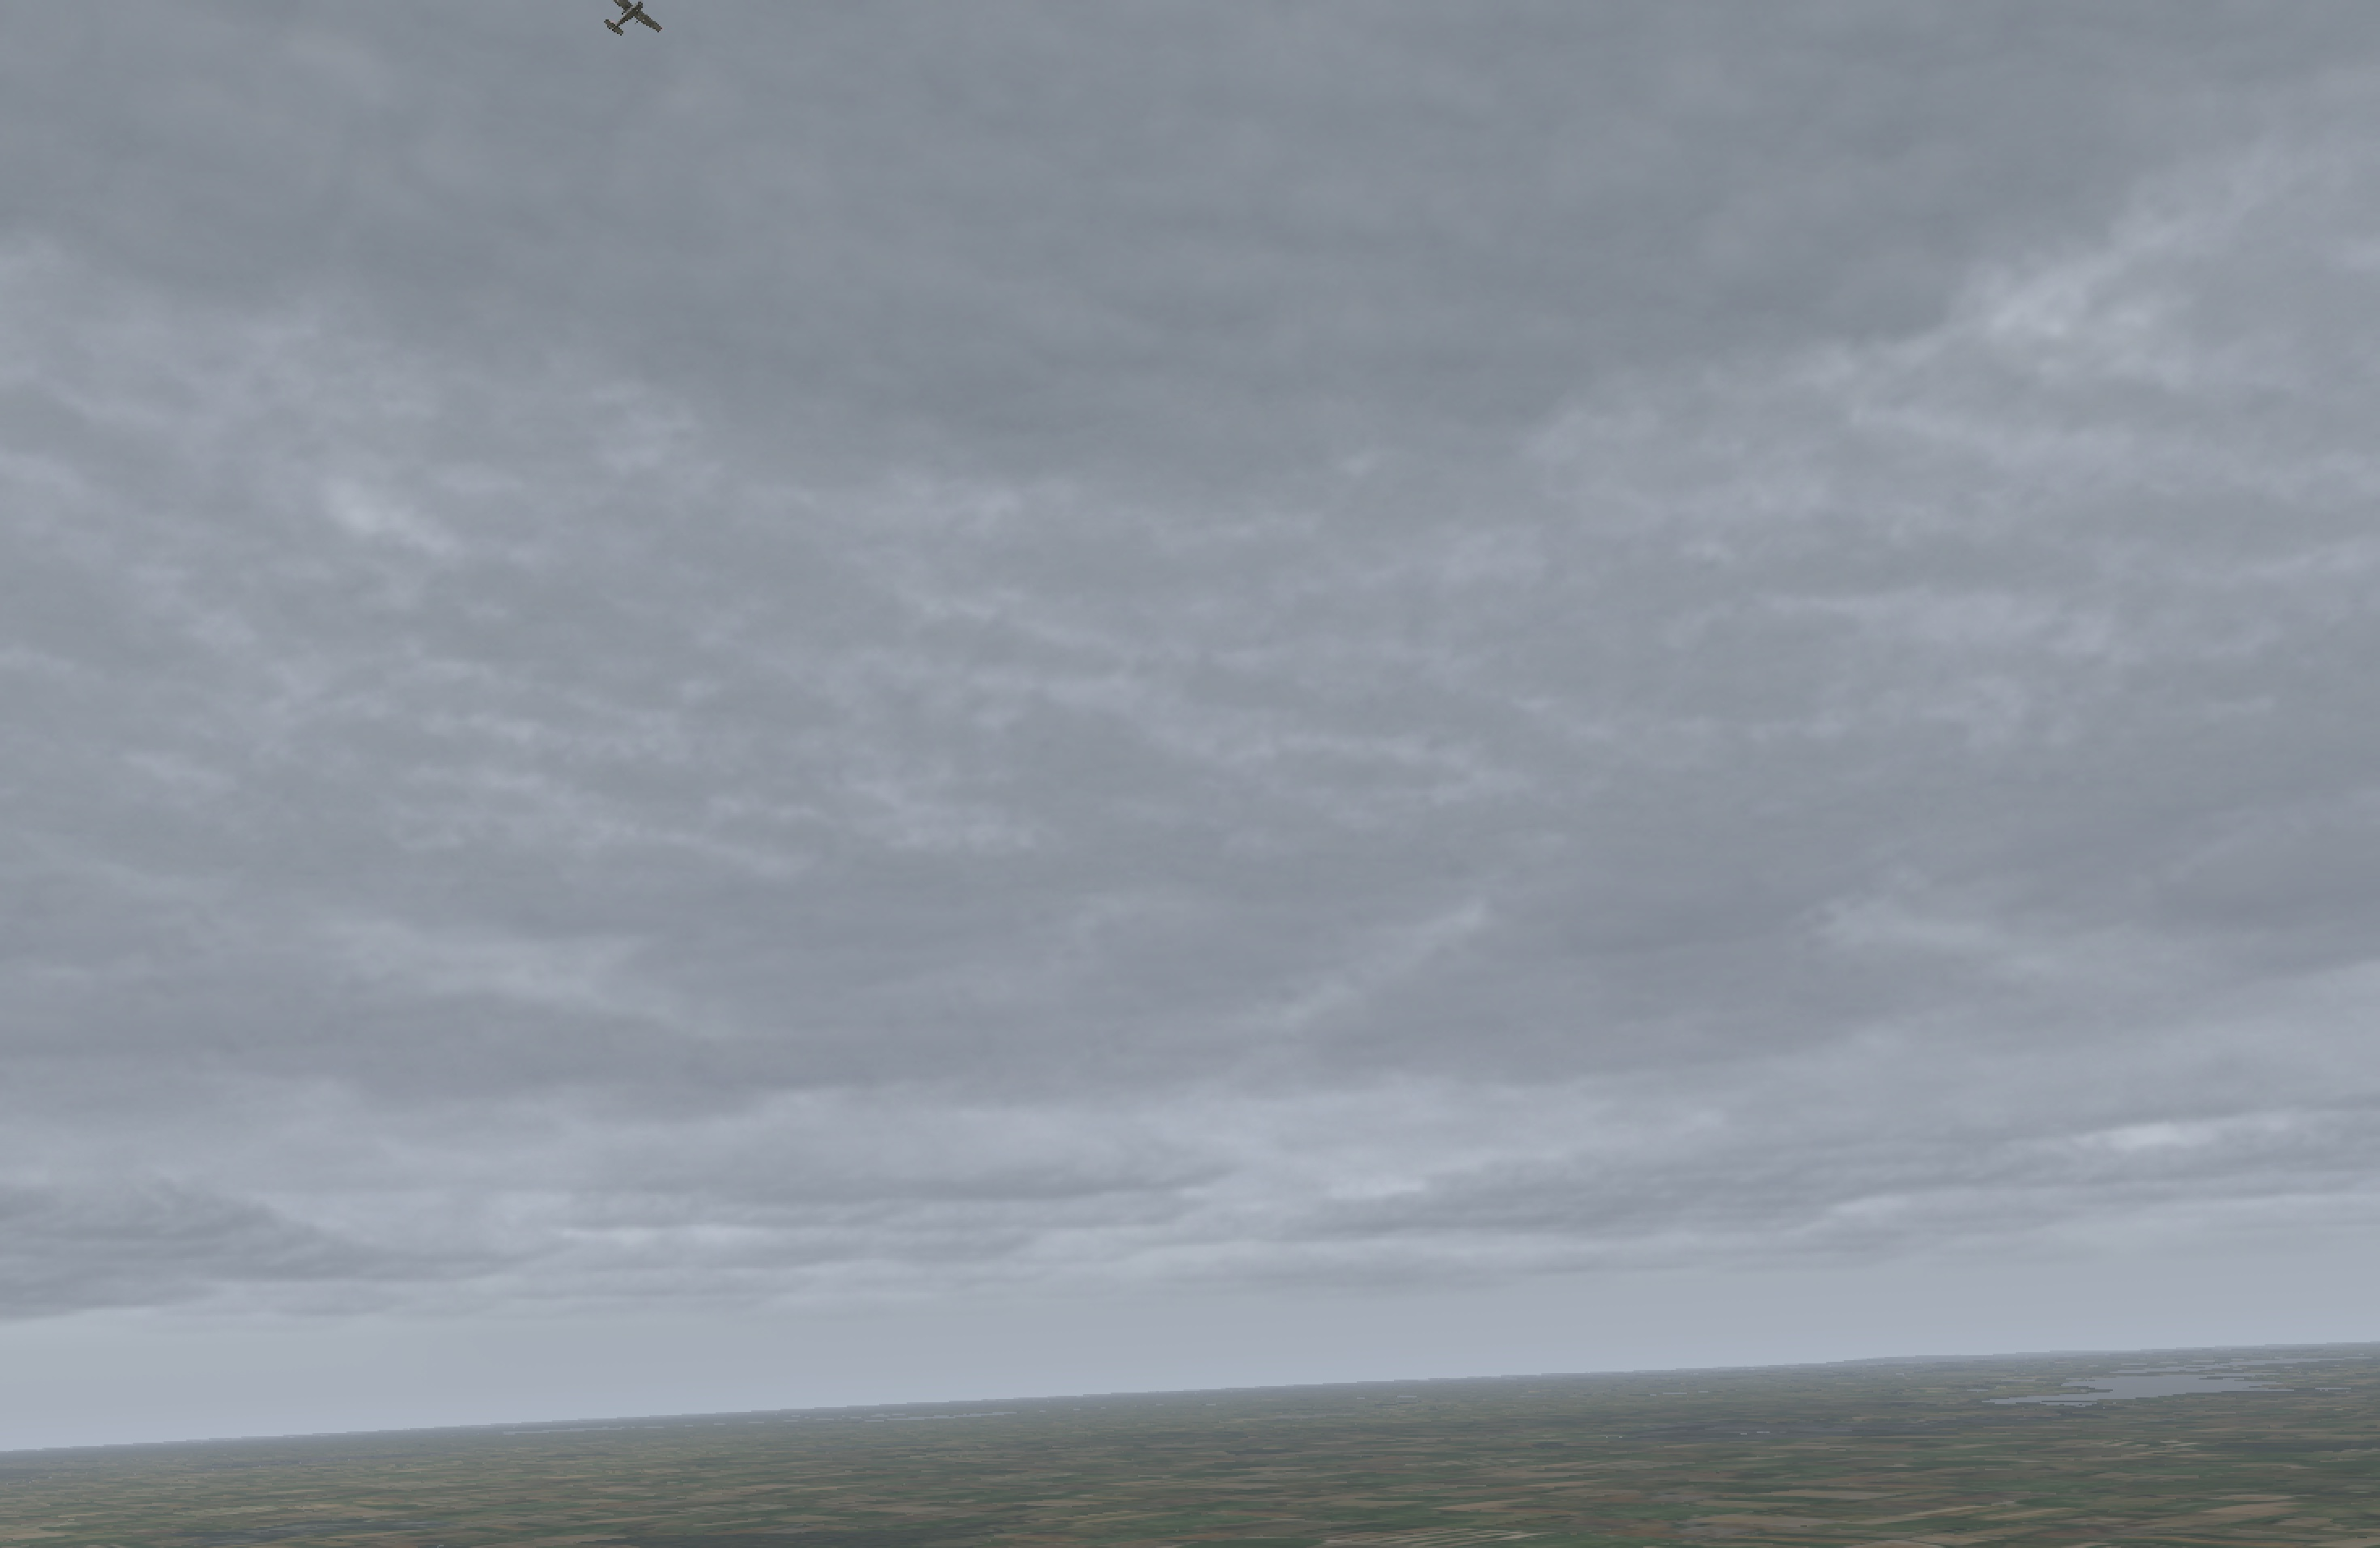aircraft: (609, 2, 656, 19)
